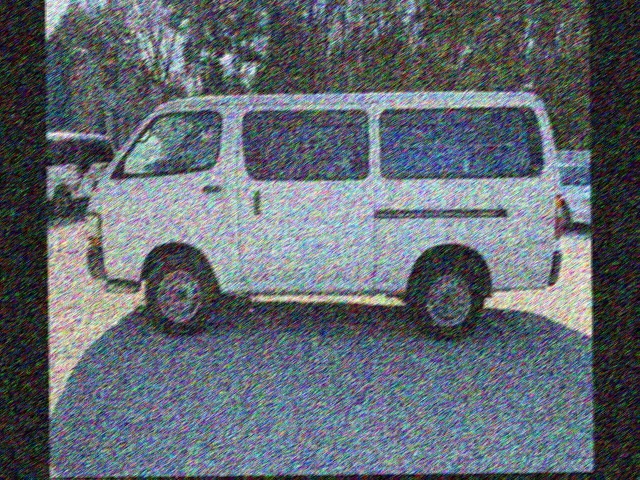van: (88, 92, 564, 327)
